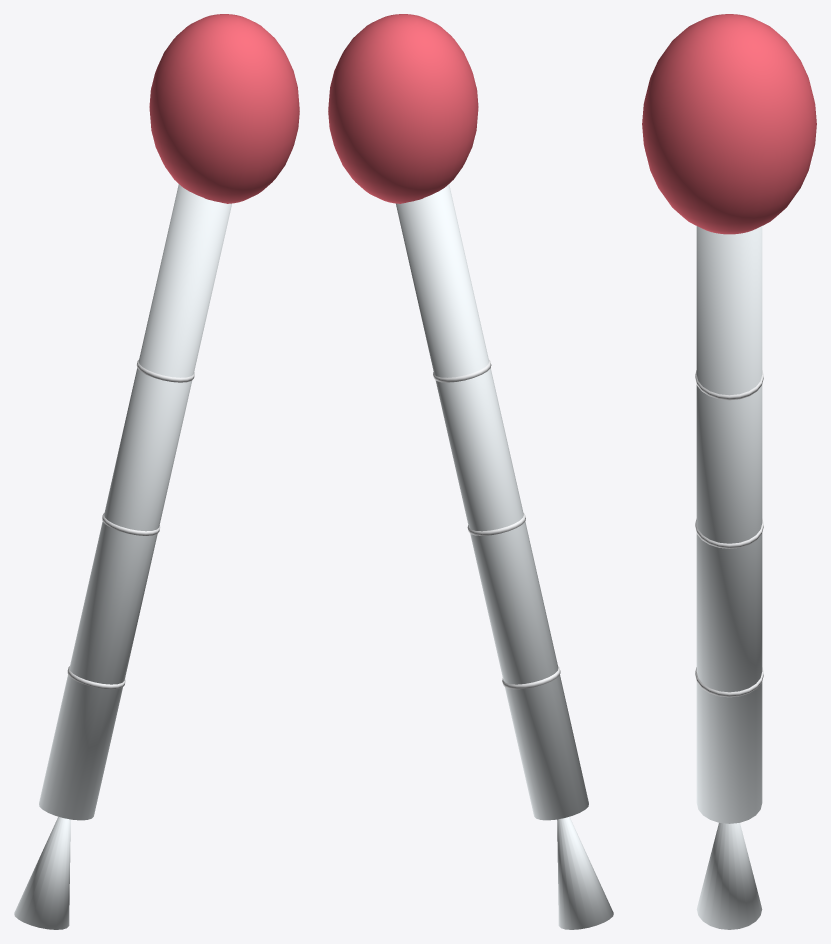
File: L06_Pipette_Giant.glb
3 renders of one model, left to right at view 1: azimuth 30°, elevation 25°; view 2: azimuth 150°, elevation 25°; view 3: azimuth 270°, elevation 25°, orthographic. The views are drawn at different scales.
Visible parts, largest first — view 1: L06_Pipette_Giant_Mesh; view 2: L06_Pipette_Giant_Mesh; view 3: L06_Pipette_Giant_Mesh.
Boxes of the visible parts, x1,y1,x2,y2 form: L06_Pipette_Giant_Mesh: (14, 14, 299, 929); L06_Pipette_Giant_Mesh: (328, 14, 613, 929); L06_Pipette_Giant_Mesh: (642, 14, 816, 929).
Bounding box in the file's own units: 1.33 × 4.04 × 0.64.
